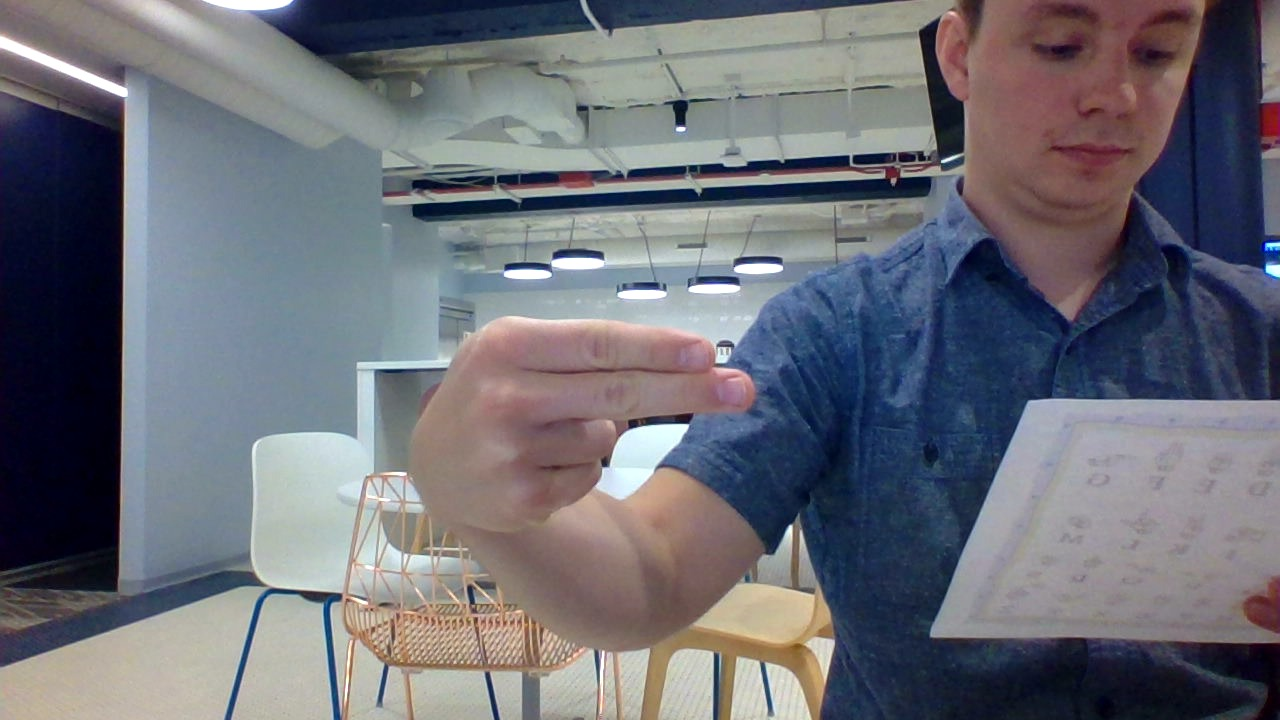h: (375, 293, 773, 562)
